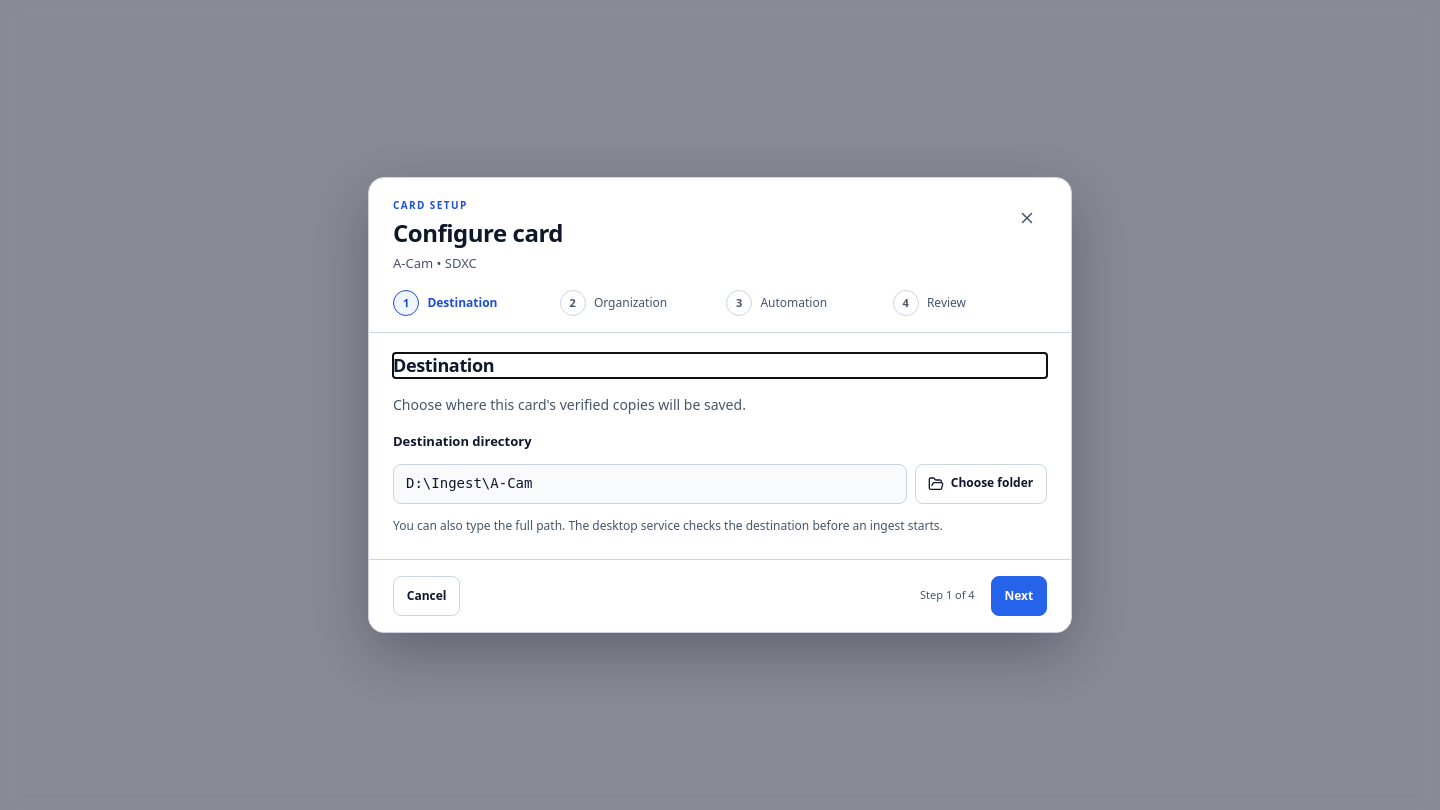
selecting EXIF hour explains its recorded-offset range and separate date folder
Step 1. Click the button "Next" → x=1019, y=596, box [991, 576, 1047, 616]
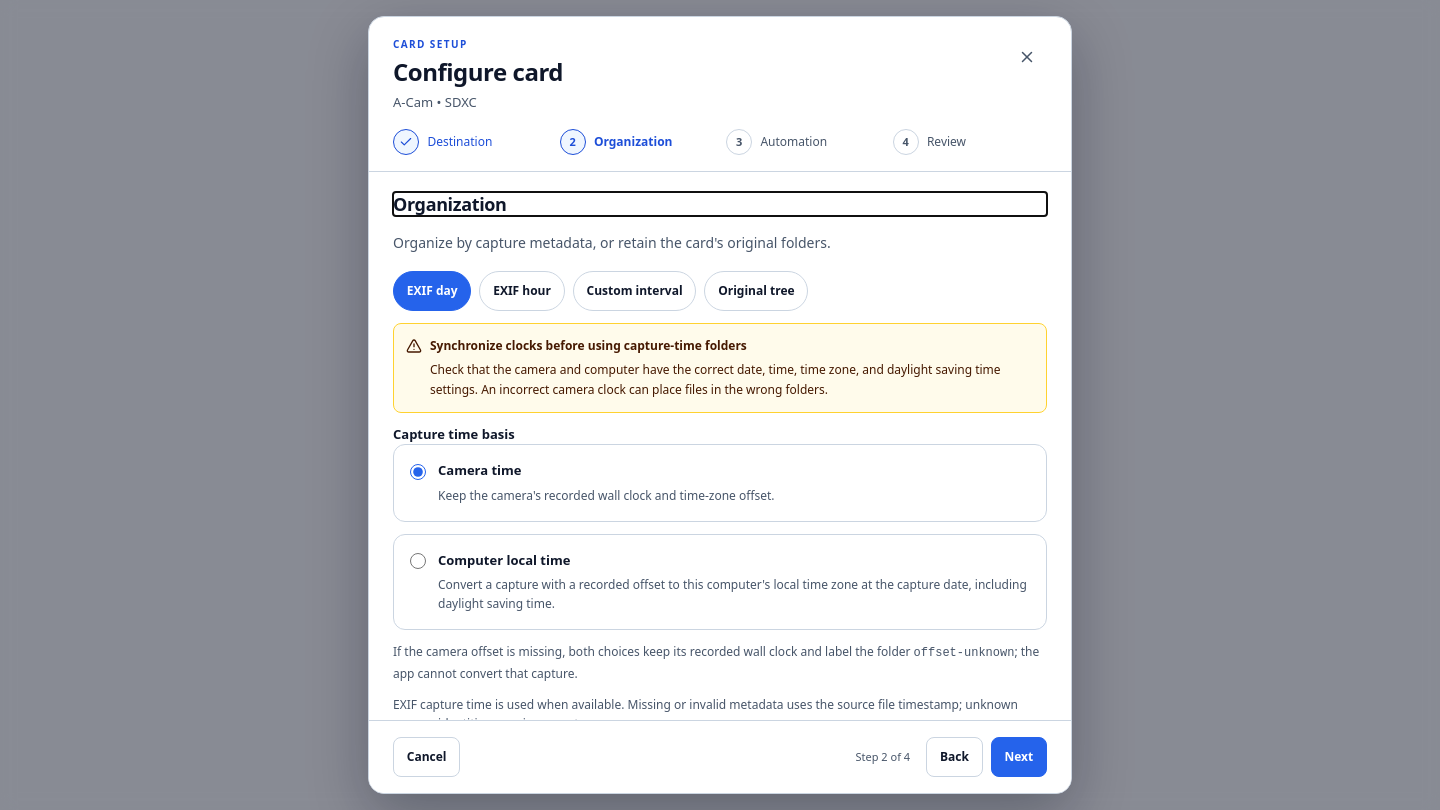
Expected: the text "1300-1400+0800" is not shown
Step 2. Click the button "EXIF hour" → x=522, y=291, box [479, 271, 565, 311]
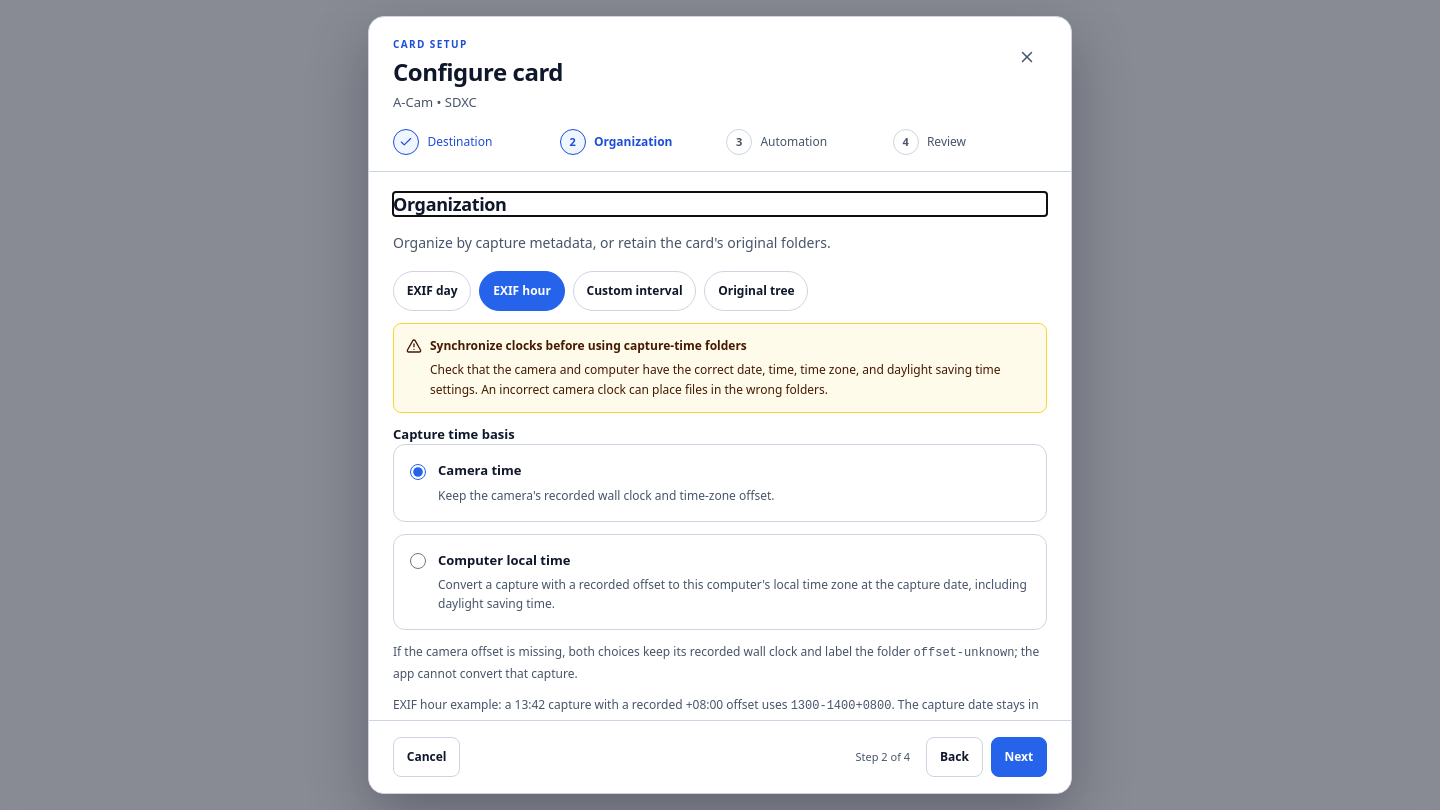
Expected: the text "1300-1400+0800" is shown, [791, 699, 891, 713]
Expected: the text "EXIF hour example:" shows "13:42 capture with a recorded +08:00 offset", [393, 696, 791, 713]
Expected: the text "EXIF hour example:" shows "The capture date stays in a separate folder.", [393, 696, 1039, 720]
Step 3. Click the button "EXIF day" → x=432, y=291, box [393, 271, 471, 311]
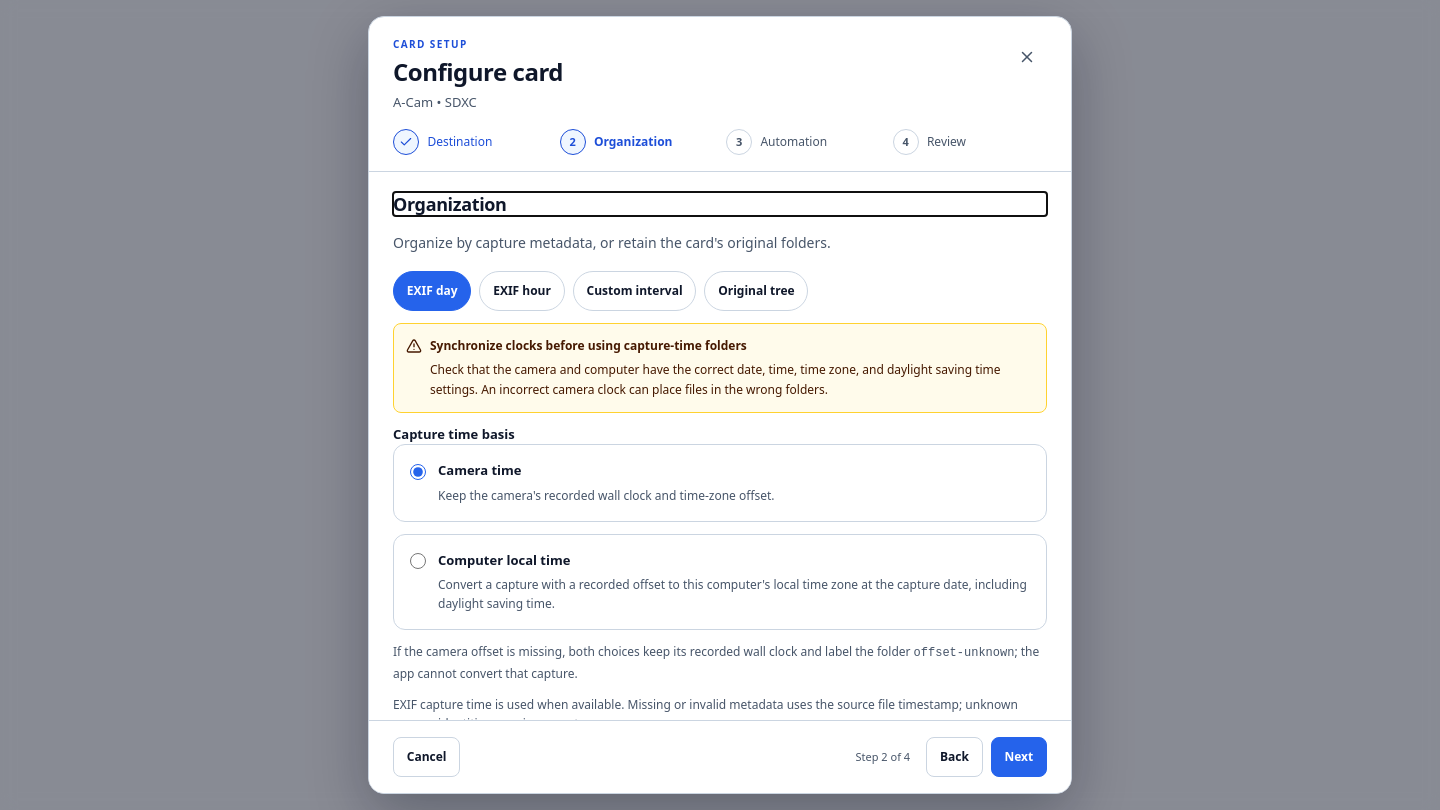
Expected: the text "1300-1400+0800" is gone
